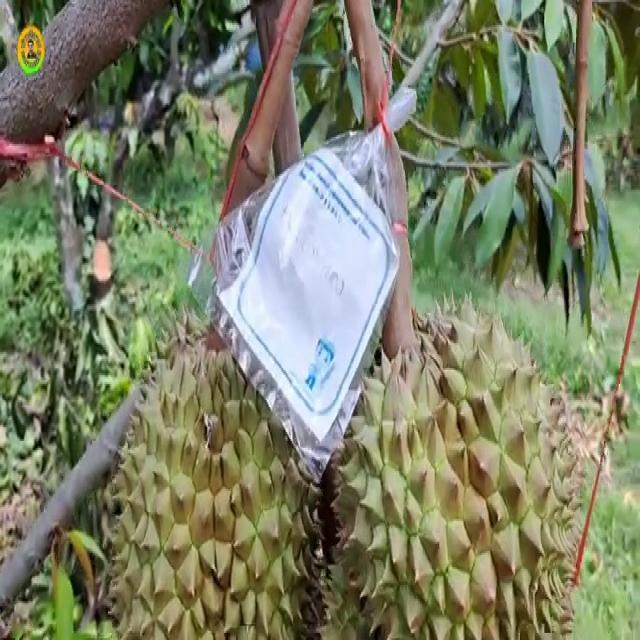durian: (310, 285, 582, 638), (103, 298, 330, 638)
